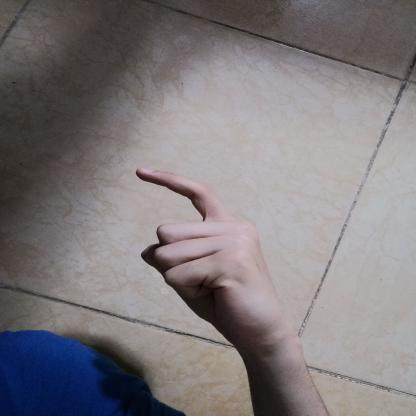RAA: (120, 158, 297, 352)
